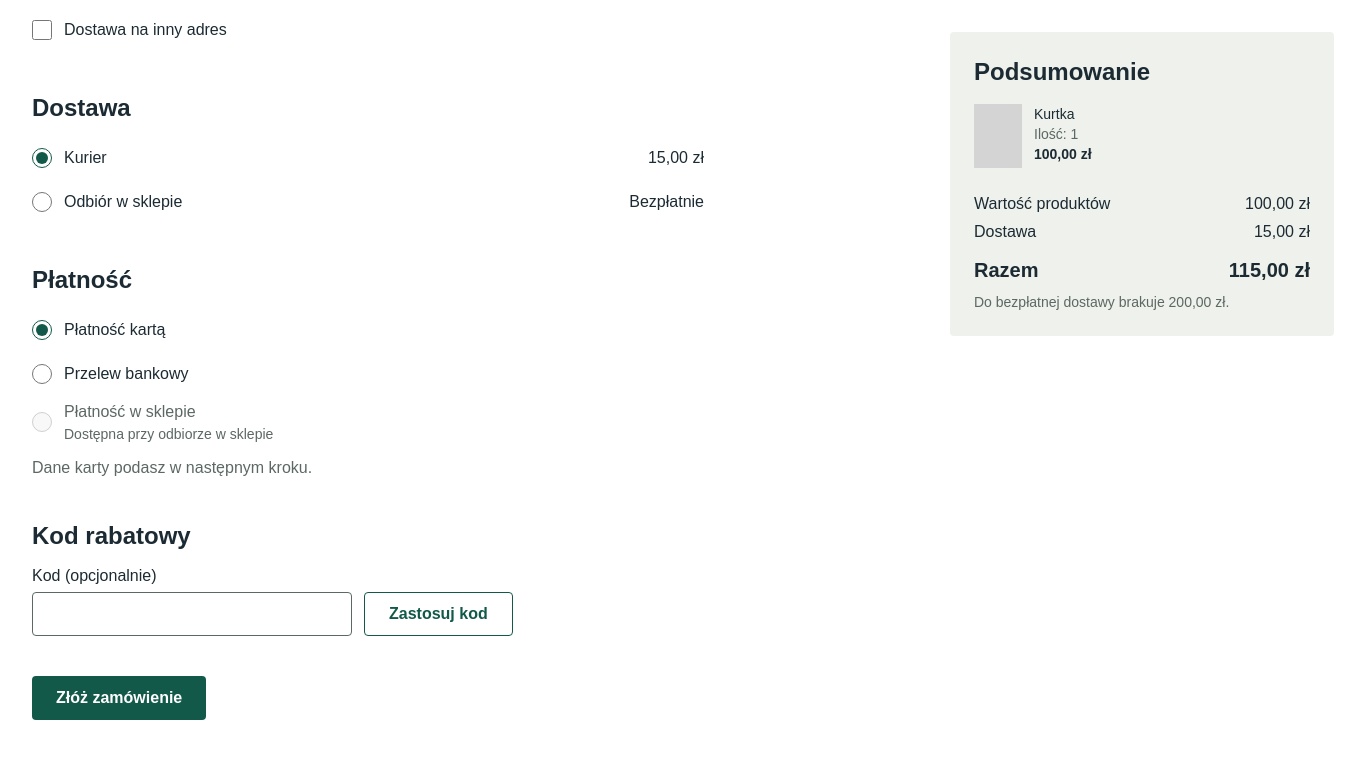
a refused order › shows the message of a 402 and keeps the cart
The image size is (1366, 768).
(page scrolled)
Click the button "Złóż zamówienie". click: (119,698)
box: [32,676,206,720]
(page scrolled)
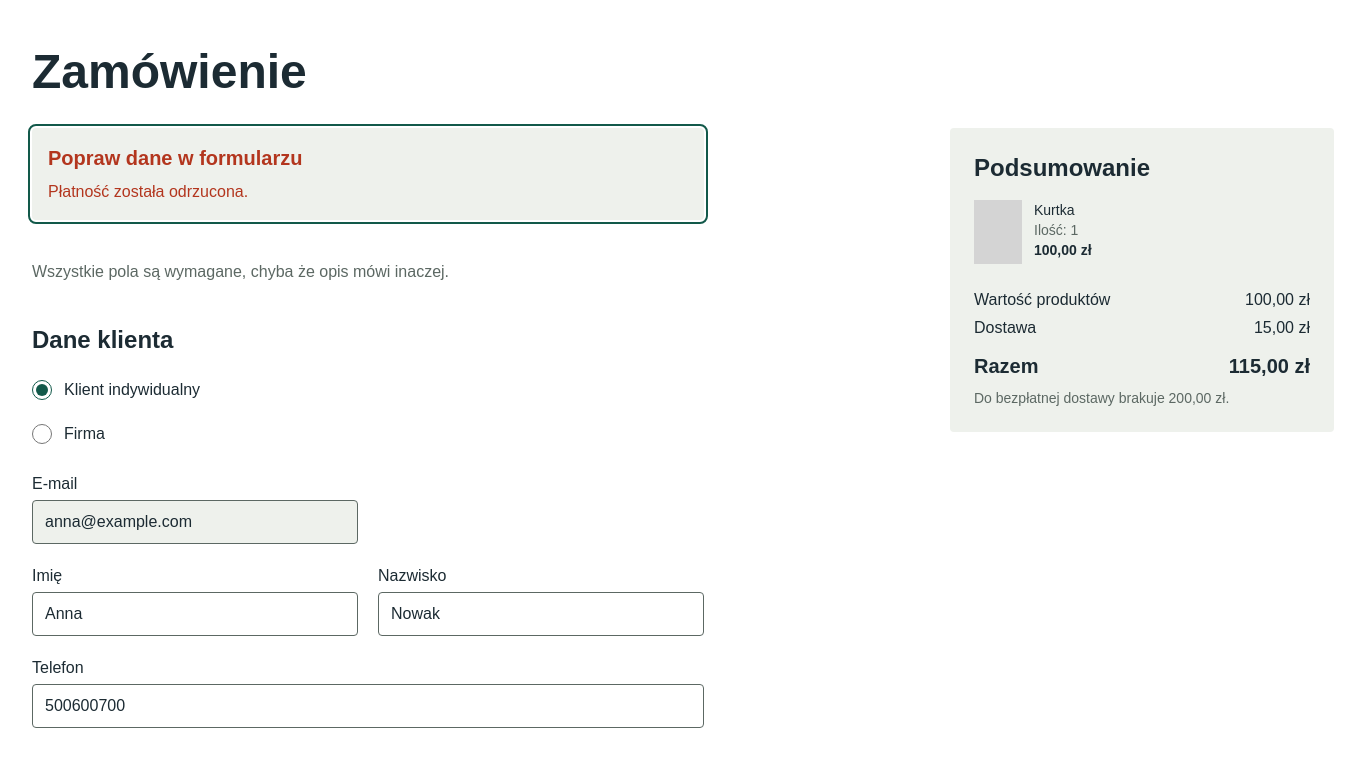
Check: the text "Płatność została odrzucona." is shown, box [48,183,248,200]
